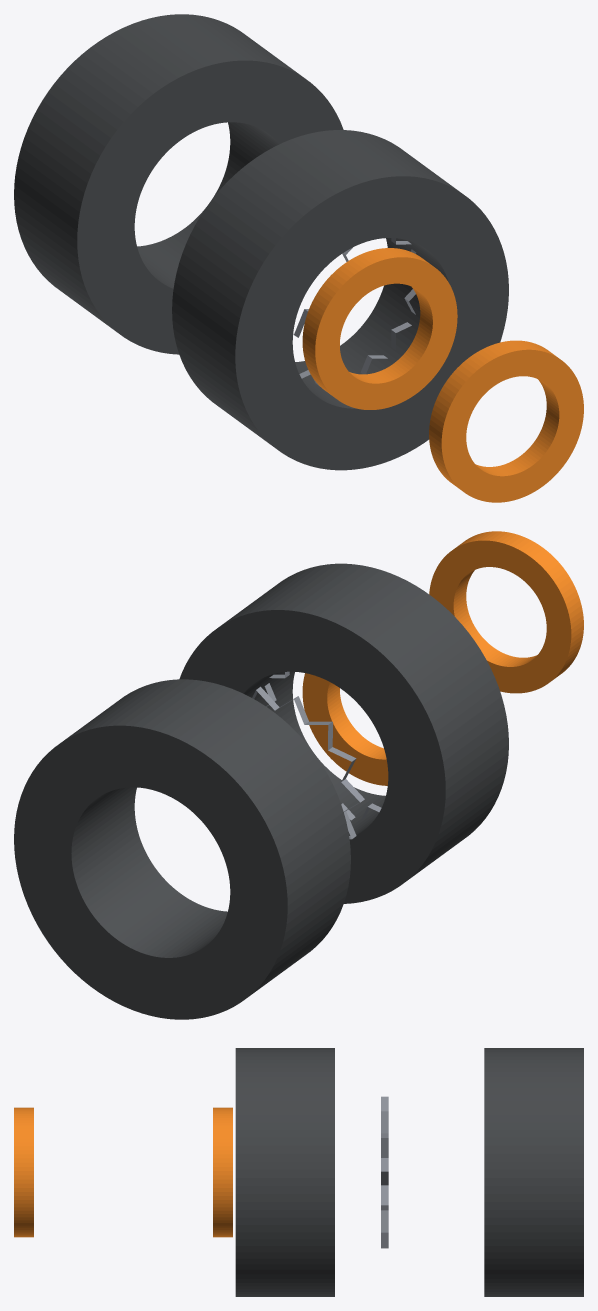
File: zwift-cog-v1.glb
The picture shows the model from 3 angles, top to bottom: view 1: azimuth 30°, elevation 25°; view 2: azimuth 150°, elevation 25°; view 3: azimuth 270°, elevation 25°; orthographic projection. The views are drawn at different scales.
Visible parts, largest first — view 1: zwift-cog-v1_HOUSING, zwift-cog-v1_HOUSING_EXPLODED, zwift-cog-v1_LOCKRING_EXPLODED, zwift-cog-v1_LOCKRING, zwift-cog-v1_SPROCKET; view 2: zwift-cog-v1_HOUSING_EXPLODED, zwift-cog-v1_HOUSING, zwift-cog-v1_LOCKRING_EXPLODED, zwift-cog-v1_LOCKRING, zwift-cog-v1_SPROCKET_EXPLODED; view 3: zwift-cog-v1_HOUSING, zwift-cog-v1_HOUSING_EXPLODED, zwift-cog-v1_LOCKRING, zwift-cog-v1_LOCKRING_EXPLODED, zwift-cog-v1_SPROCKET_EXPLODED.
Boxes of the visible parts, bbox=[...] form: zwift-cog-v1_HOUSING: bbox=[172, 130, 508, 470]; zwift-cog-v1_HOUSING_EXPLODED: bbox=[14, 14, 343, 354]; zwift-cog-v1_LOCKRING_EXPLODED: bbox=[429, 340, 583, 502]; zwift-cog-v1_LOCKRING: bbox=[302, 248, 457, 409]; zwift-cog-v1_SPROCKET: bbox=[299, 238, 416, 386]; zwift-cog-v1_HOUSING_EXPLODED: bbox=[14, 679, 350, 1019]; zwift-cog-v1_HOUSING: bbox=[179, 563, 508, 903]; zwift-cog-v1_LOCKRING_EXPLODED: bbox=[429, 531, 583, 693]; zwift-cog-v1_LOCKRING: bbox=[302, 673, 388, 785]; zwift-cog-v1_SPROCKET_EXPLODED: bbox=[252, 686, 364, 839]; zwift-cog-v1_HOUSING: bbox=[235, 1048, 334, 1296]; zwift-cog-v1_HOUSING_EXPLODED: bbox=[484, 1048, 583, 1296]; zwift-cog-v1_LOCKRING: bbox=[213, 1107, 232, 1237]; zwift-cog-v1_LOCKRING_EXPLODED: bbox=[14, 1107, 33, 1237]; zwift-cog-v1_SPROCKET_EXPLODED: bbox=[381, 1096, 388, 1248].
Bounding box in the file's own units: 0.1 × 0.1 × 0.229.
